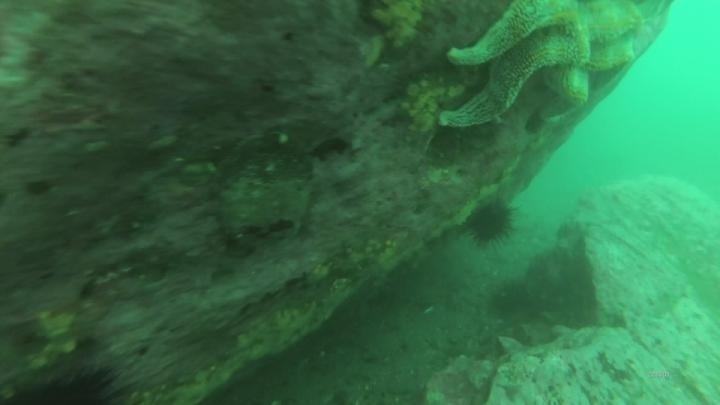echinus: (7, 357, 132, 403), (463, 195, 519, 249)
starfish: (433, 1, 647, 133)
